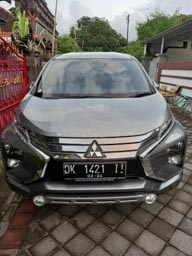plat: (60, 163, 126, 174)
